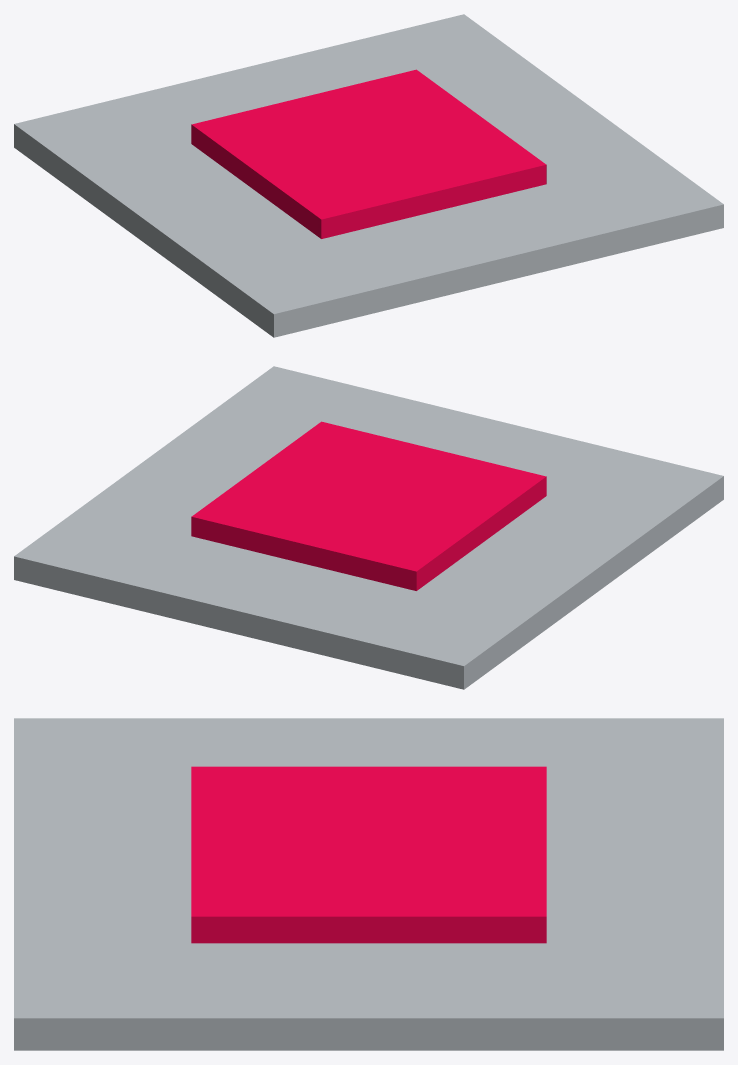
File: Trigger.fbx
3 renders of one model, top to bottom at view 1: azimuth 30°, elevation 25°; view 2: azimuth 150°, elevation 25°; view 3: azimuth 270°, elevation 25°, orthographic. The views are drawn at different scales.
Visible parts, largest first — view 1: Slab; view 2: Slab; view 3: Slab.
Part boxes in pixels (<box>): Slab: <box>14,14,723,337</box>; Slab: <box>14,366,723,689</box>; Slab: <box>14,718,723,1050</box>.
Bounding box in the file's own units: 600 × 55 × 600.
